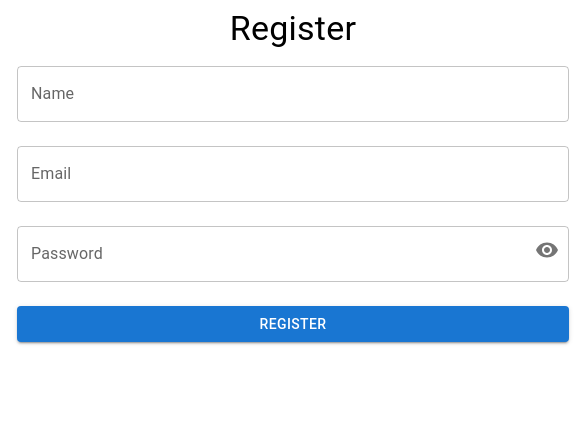
RegisterPage › handles server error
This screenshot has width=587, height=435.
Type "Test User" into the field labelled "Name" at (293,94), box [17,66,569,122]
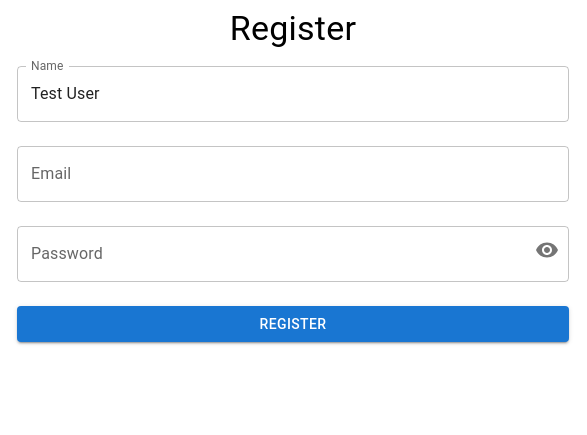
Type "test@example.com" into the field labelled "Email" at (293,174), box [17,146,569,202]
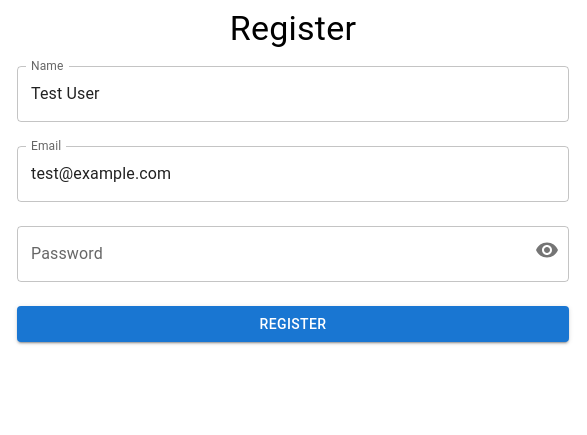
Type "Password123!" into the password field labelled "Password" at (268,254), box [17,226,519,282]
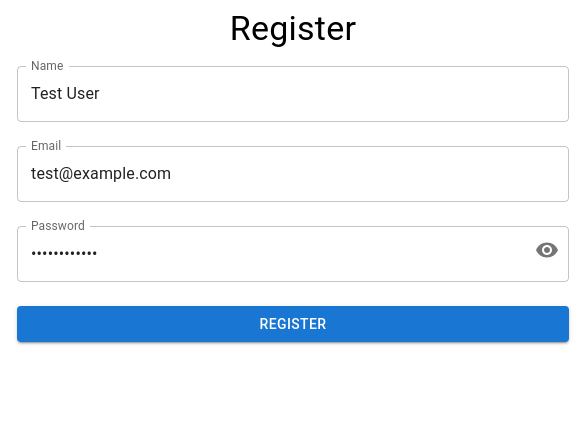
Click the button "Register" at (293,324), box [17,306,569,342]
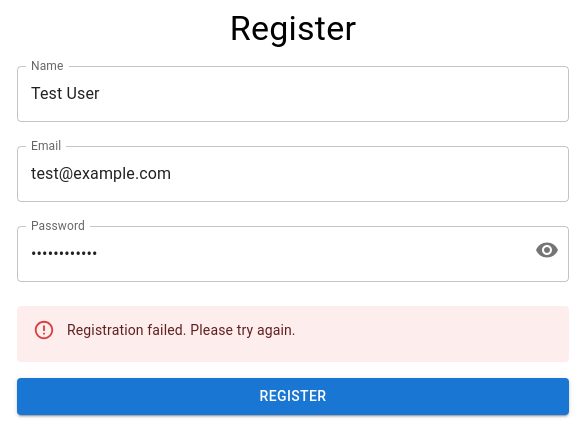
Result: the text "Registration failed. Please try again." is shown at [67,322,296,338]
